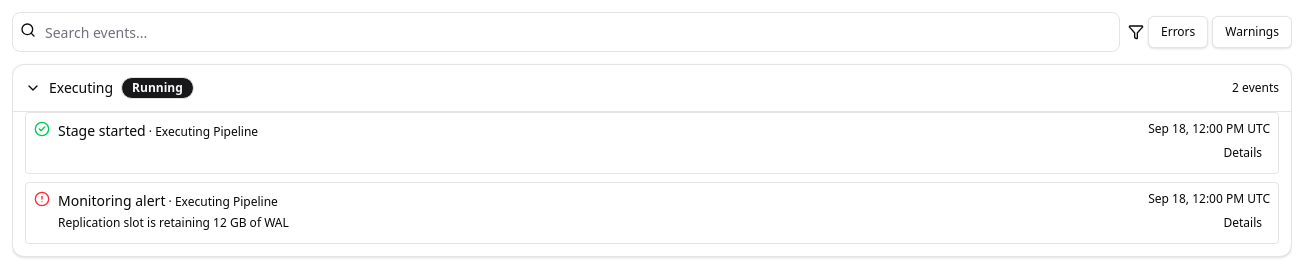
it: SENTINEL_ALERT reads its level from payload.status › a critical alert is an error row the Errors filter finds
Click the button "Errors" at (1178, 32), box [1148,16,1208,48]
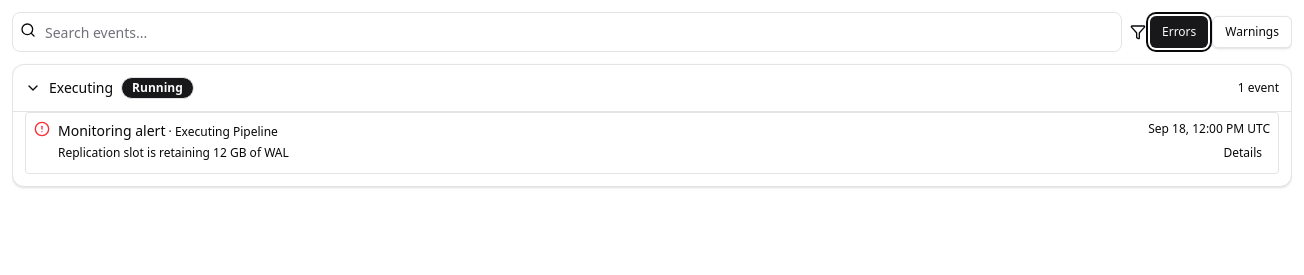
expect the text "Replication slot is retaining 12 GB of WAL" is shown: met, box [58,144,289,161]
expect the number of elements with test id "activity-row" is 1: met, box [25,112,1279,174]
